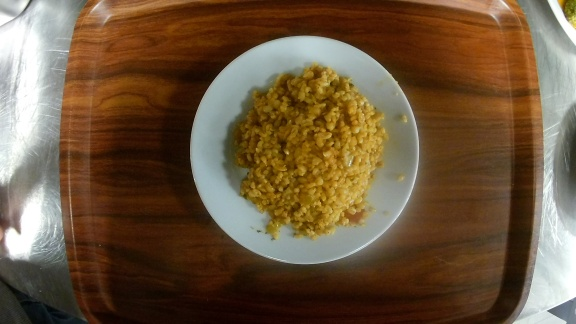bulgur: (188, 35, 420, 265)
